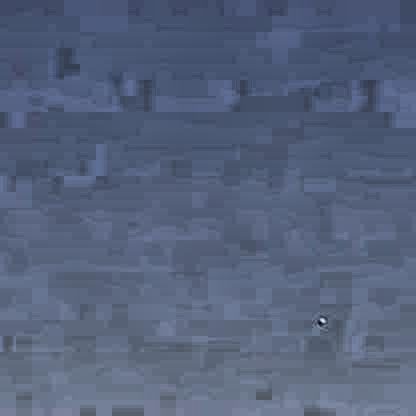golfball: (315, 315, 323, 322)
